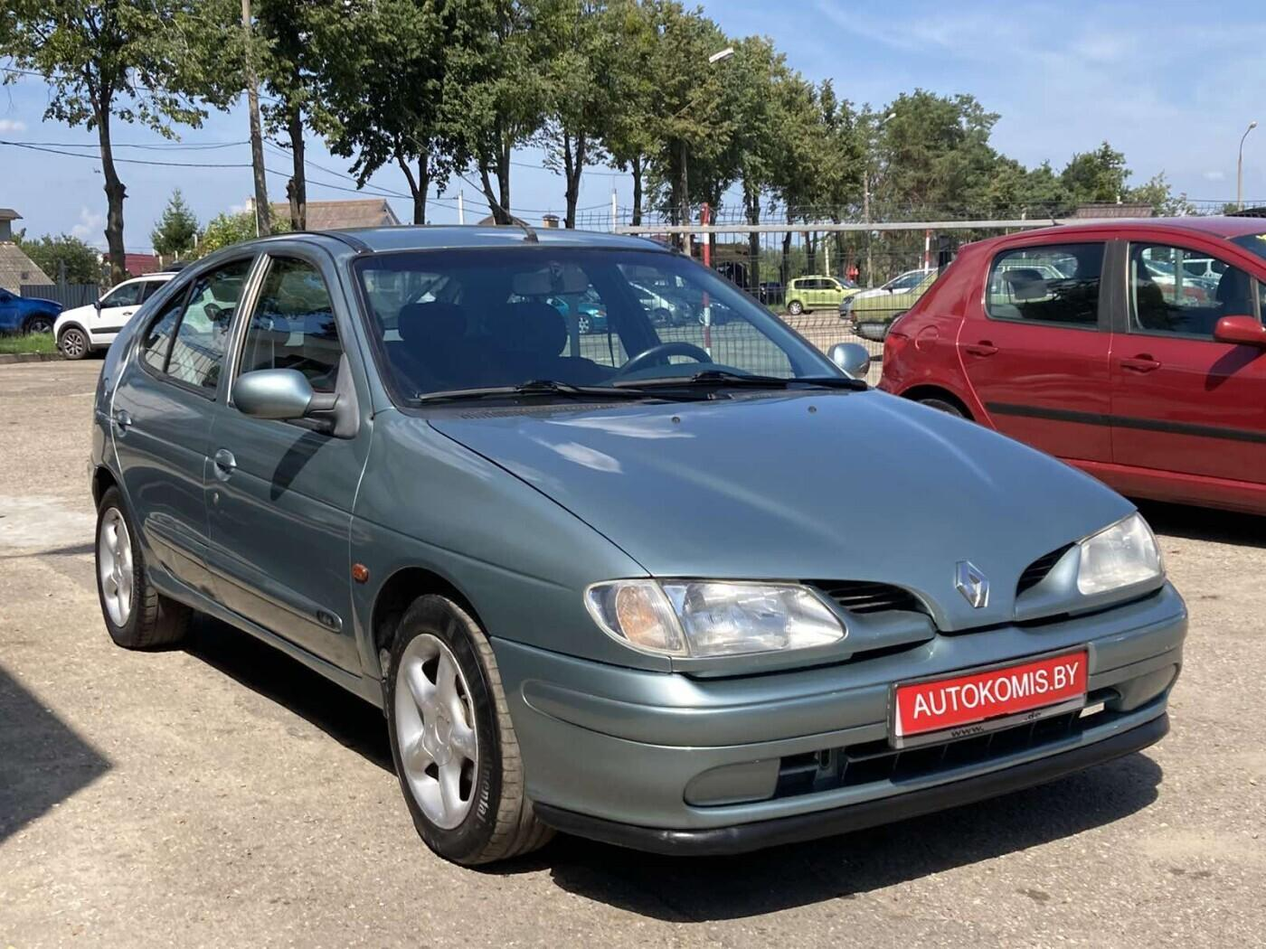Megane_1995-1999: (78, 229, 1188, 864)
